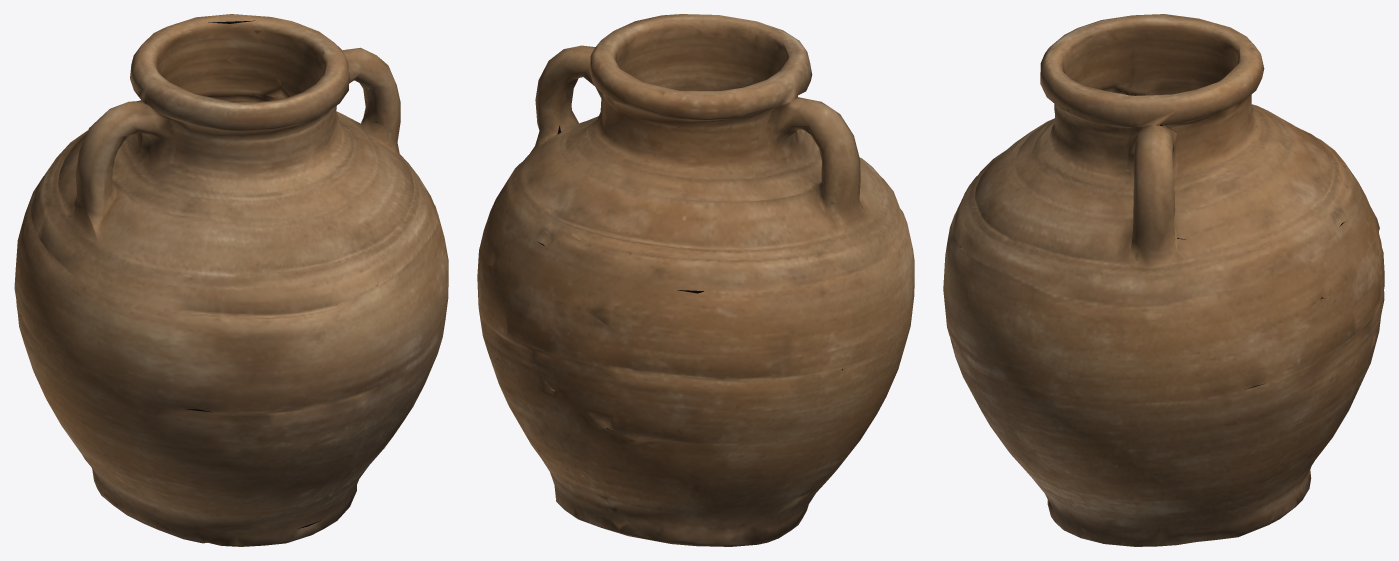
File: oil-jar-pixal3d-runtime.glb
The picture shows the model from 3 angles, left to right: view 1: azimuth 30°, elevation 25°; view 2: azimuth 150°, elevation 25°; view 3: azimuth 270°, elevation 25°; orthographic projection.
Parts seen in each view (by area): view 1: geometry_0; view 2: geometry_0; view 3: geometry_0.
Boxes of the visible parts, x1,y1,x2,y2 form: geometry_0: (14,14,448,546); geometry_0: (477,14,914,546); geometry_0: (943,14,1384,546).
Size of the model in its own units: 0.2456 by 0.2797 by 0.2469.
1 material, 1 textured.
